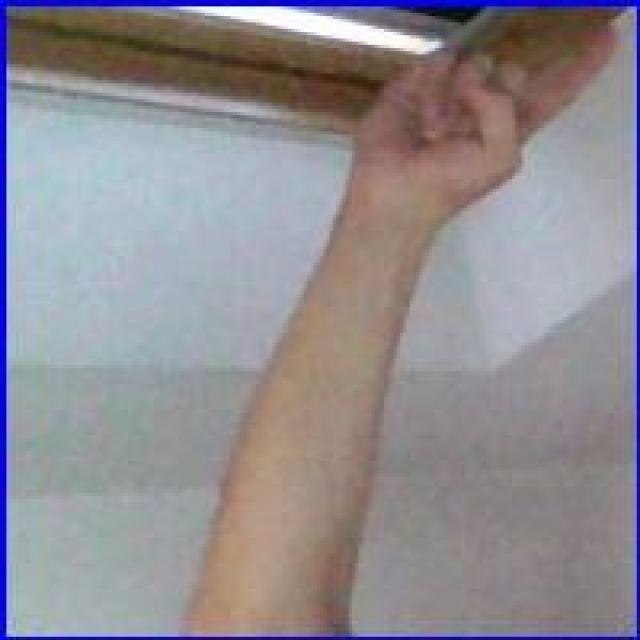Z: (357, 11, 616, 216)
